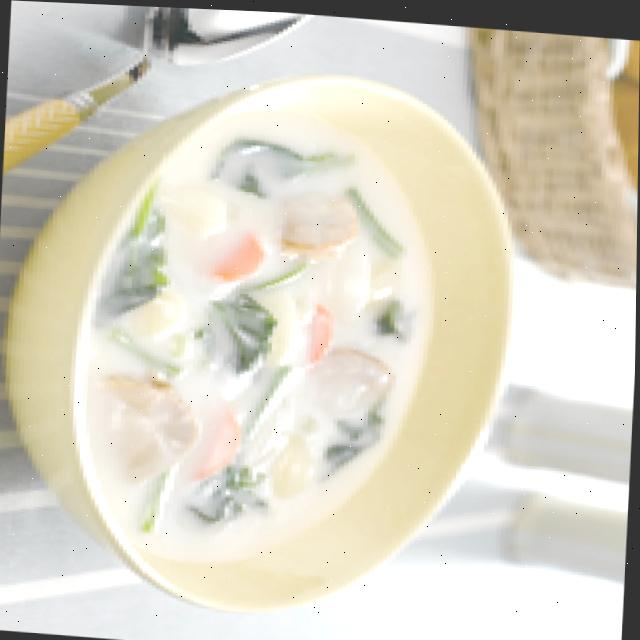汤锅炖物: (0, 45, 540, 640)
